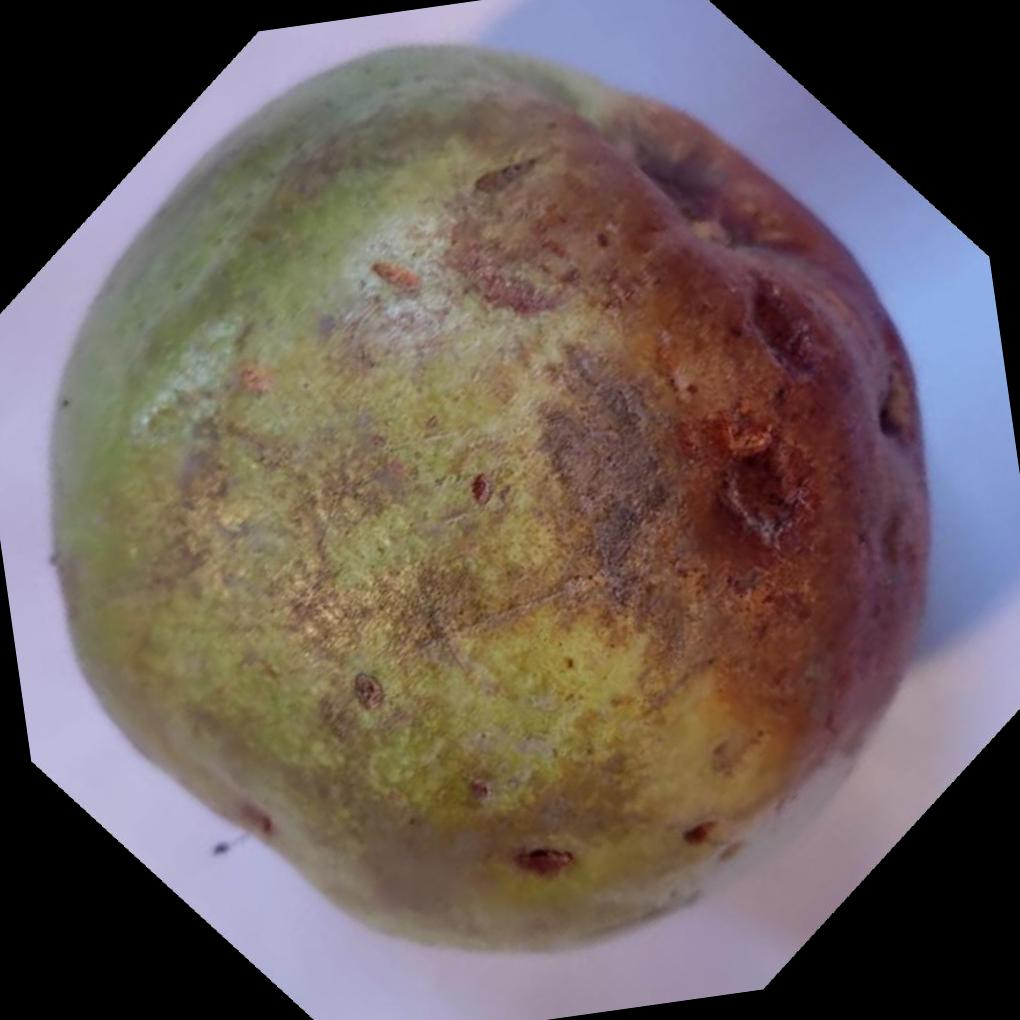FreshOrange: (44, 38, 934, 954)
